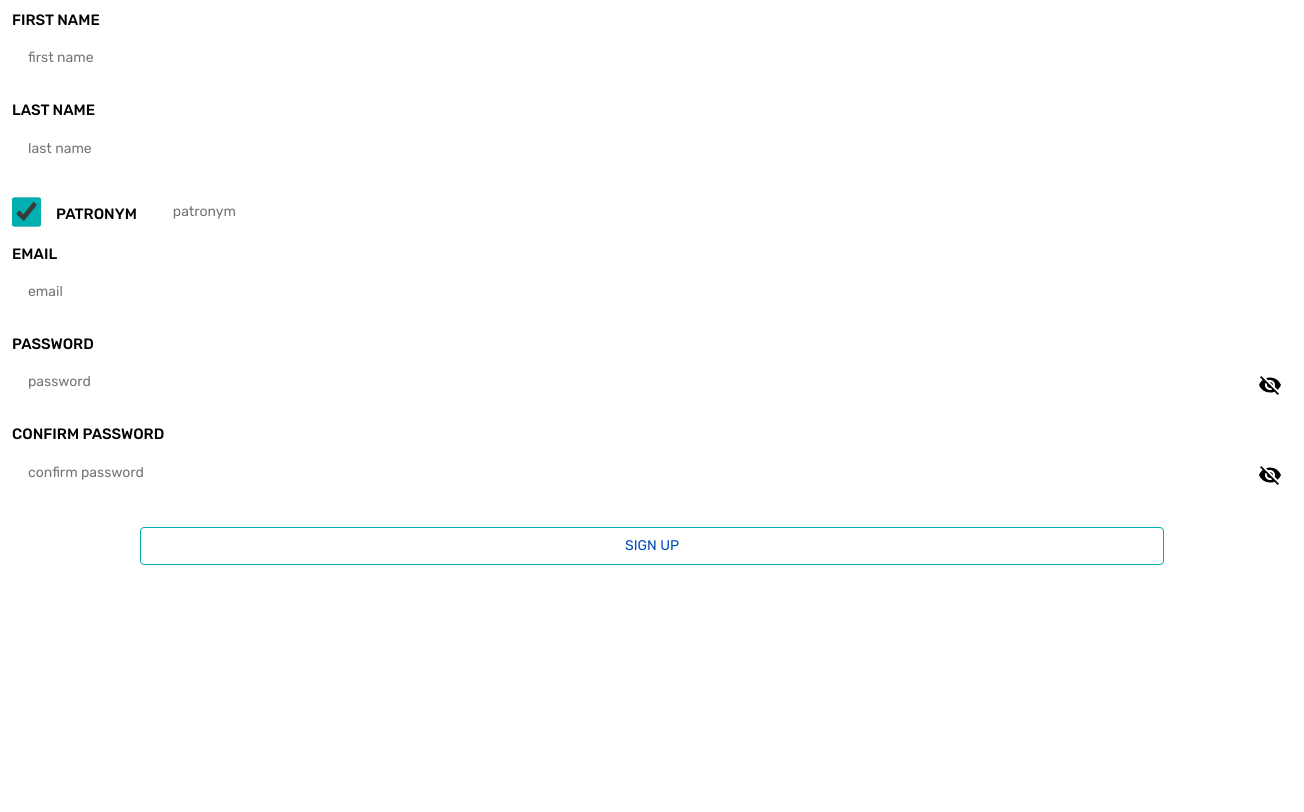
Test: SignUpForm component › Fill SignUpForm and submit existed email
Type "testm" into the field labelled "first name" at (652, 58), box [12, 39, 1292, 77]
Type "test" into the field labelled "last name" at (652, 149), box [12, 130, 1292, 168]
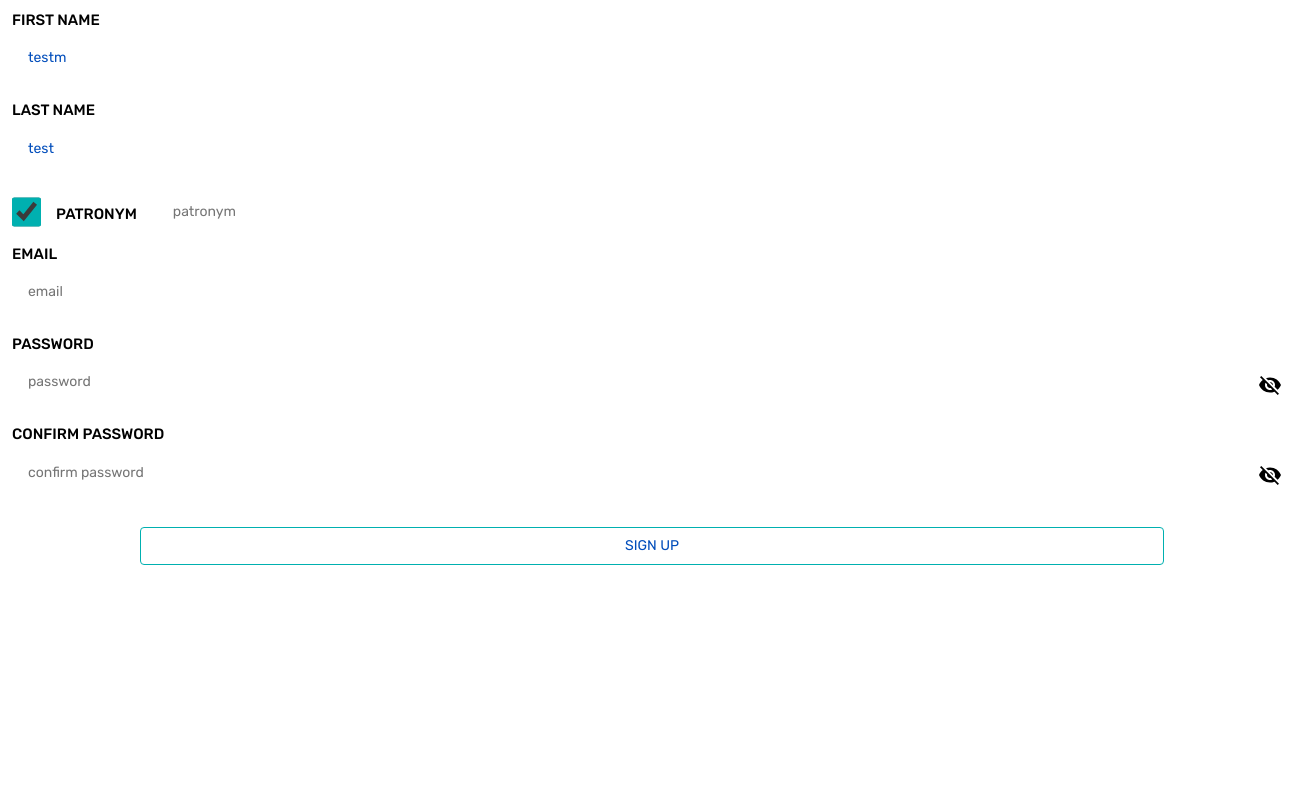
Type "test@test.com" into the field labelled "email" at (652, 292), box [12, 273, 1292, 311]
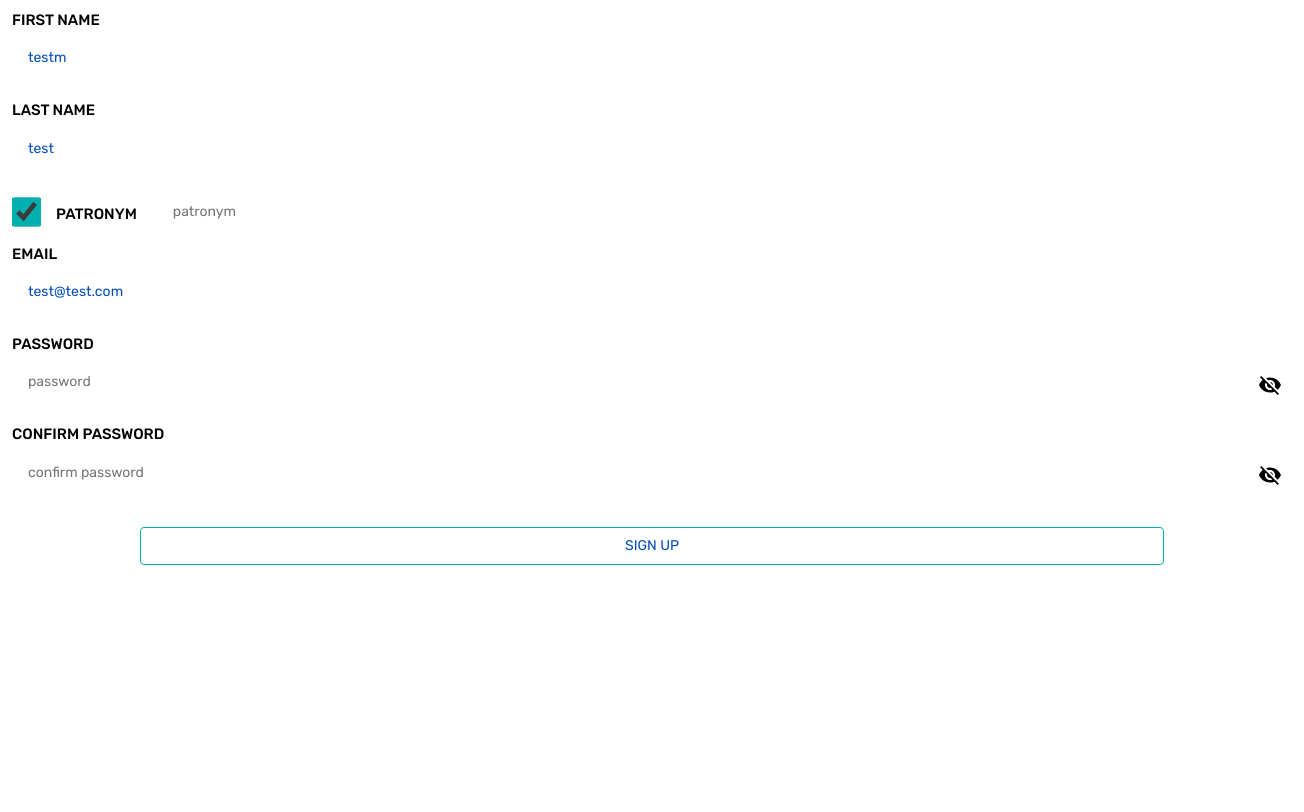
Type "test123" into the password field with test id "sign-up-input-password" at (652, 382), box [12, 363, 1292, 402]
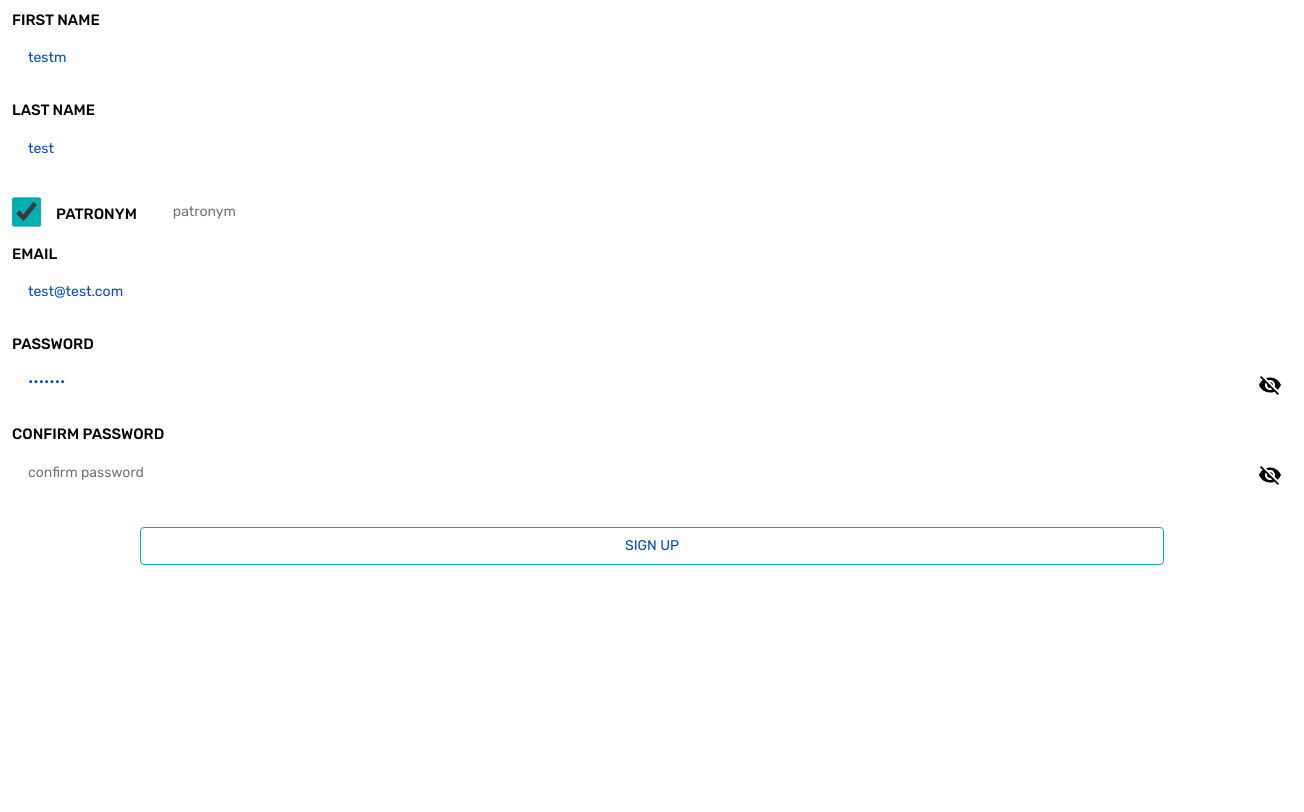
Type "test123" into the password field with test id "sign-up-input-password-confirm" at (652, 473), box [12, 454, 1292, 492]
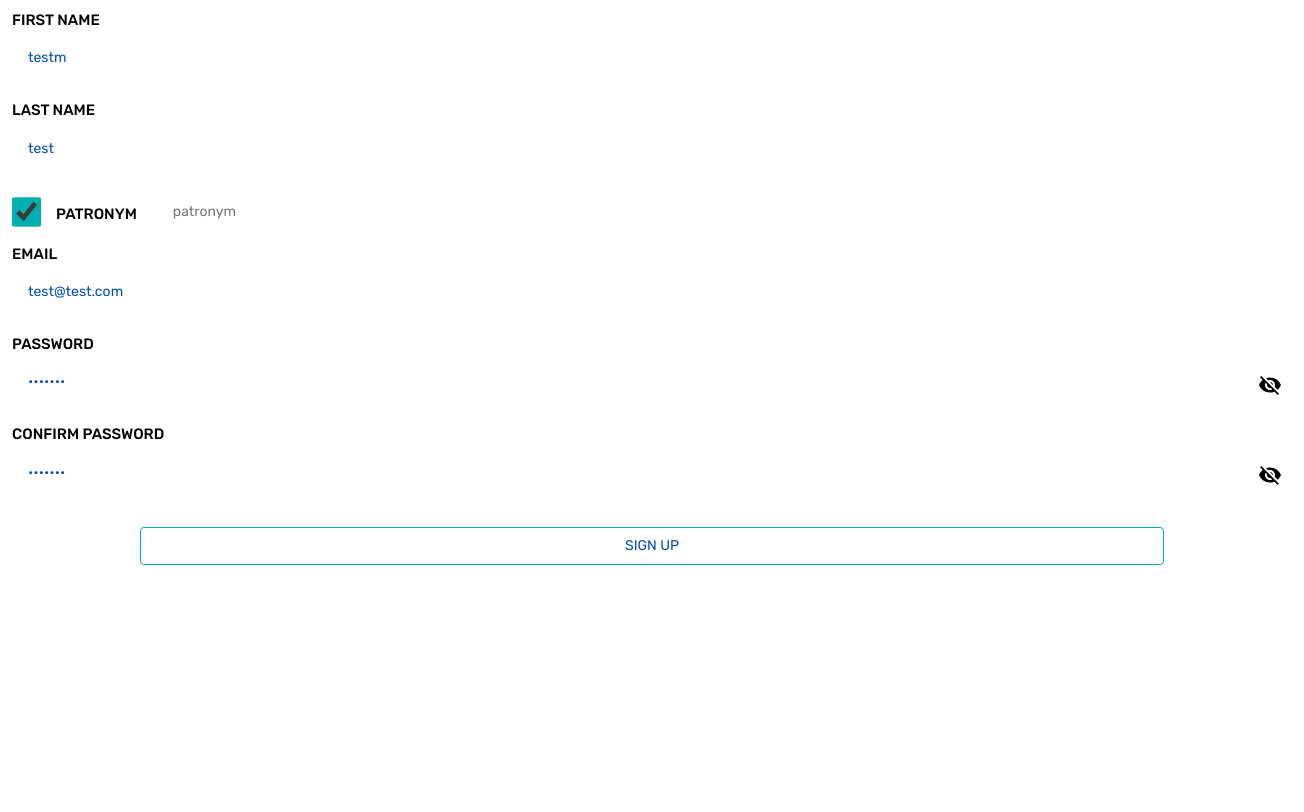
Click the checkbox at (26, 212), box [12, 197, 41, 227]
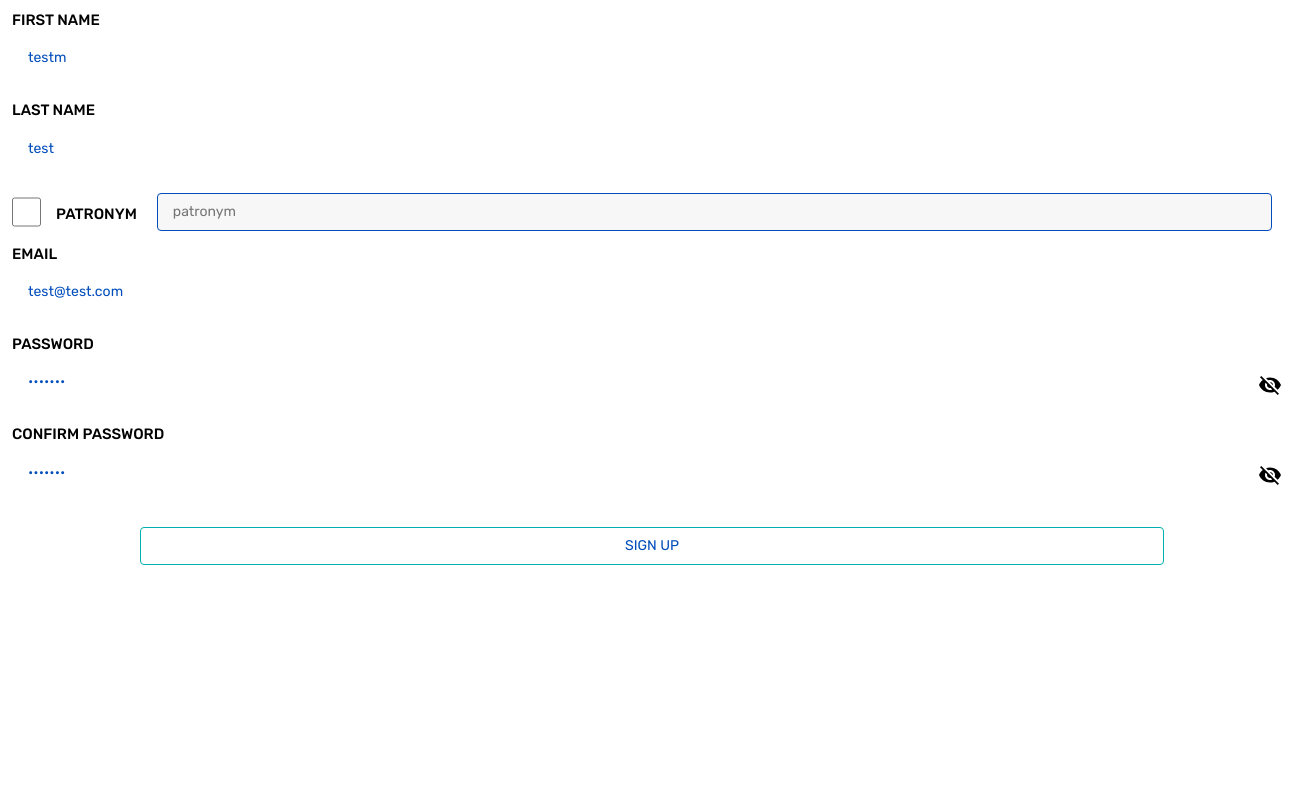
Click the button "sign up" at (652, 546), box [140, 527, 1164, 565]
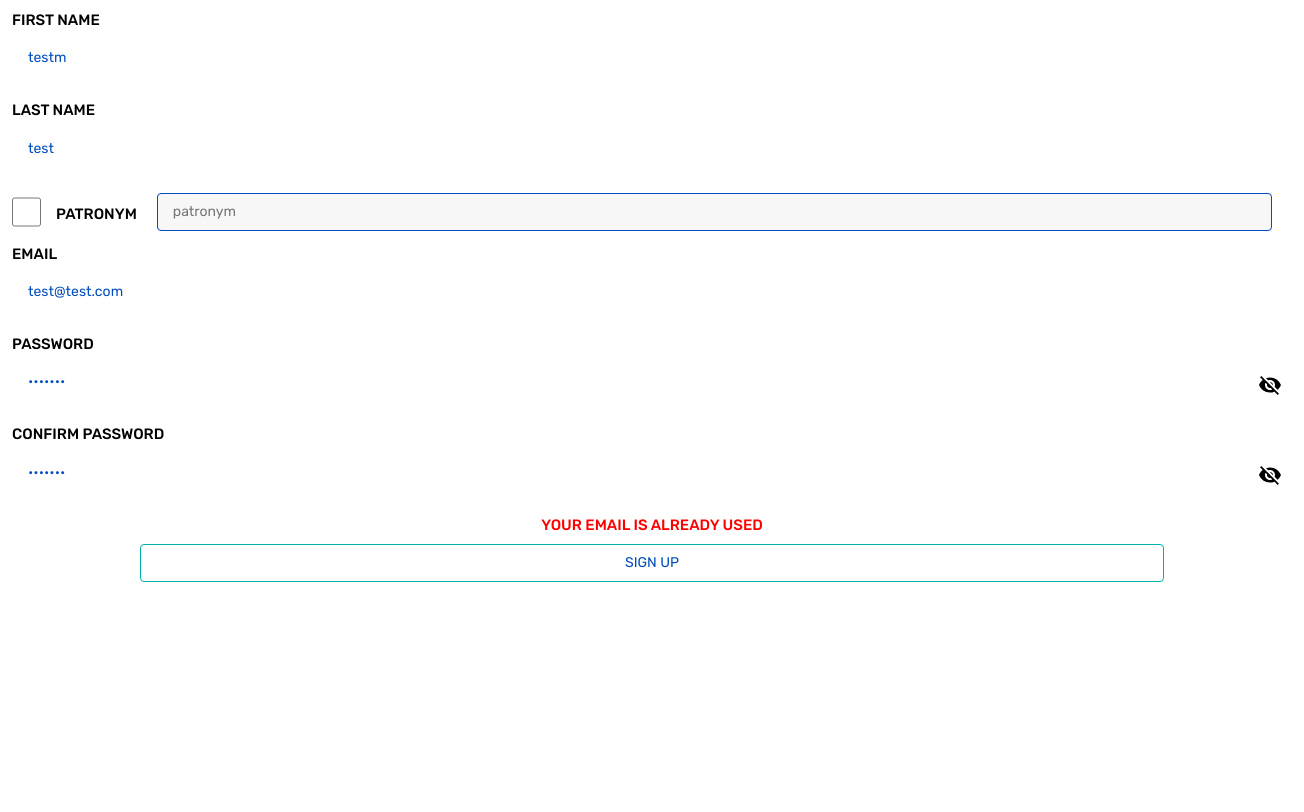
Check: the text "your email is already used" is shown, box [541, 516, 763, 534]
